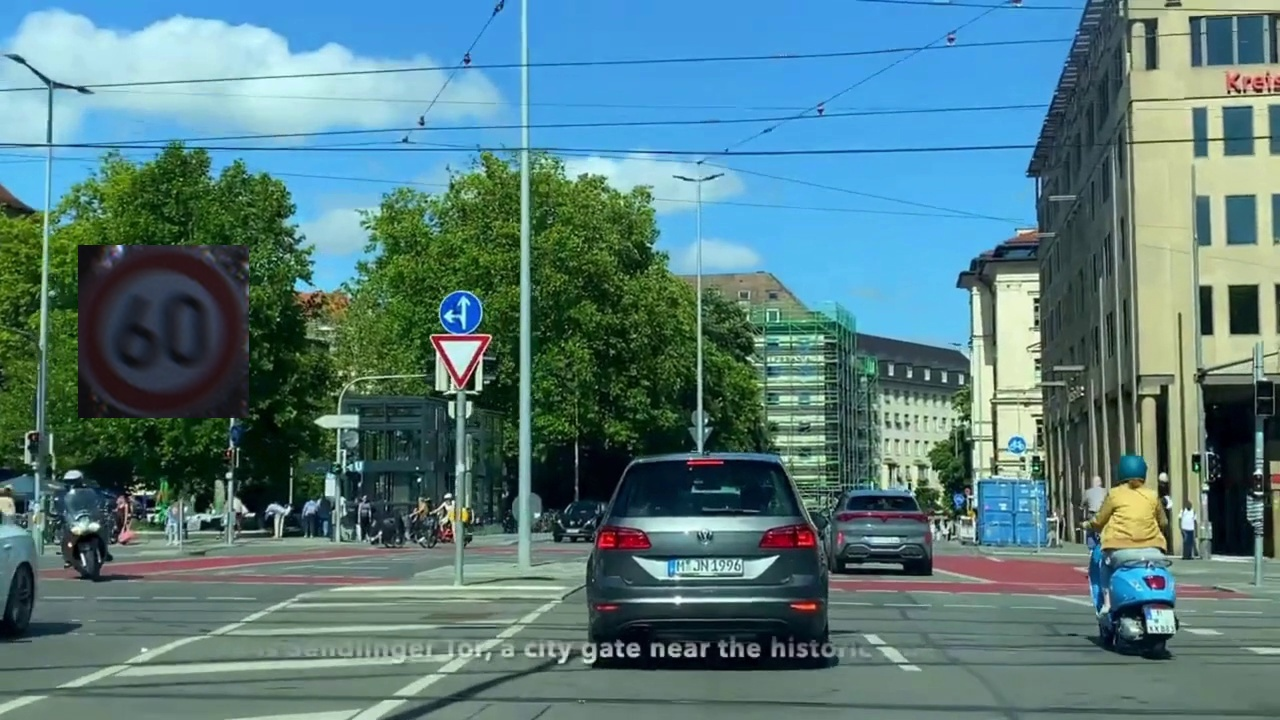Speed 60: (78, 245, 249, 418)
